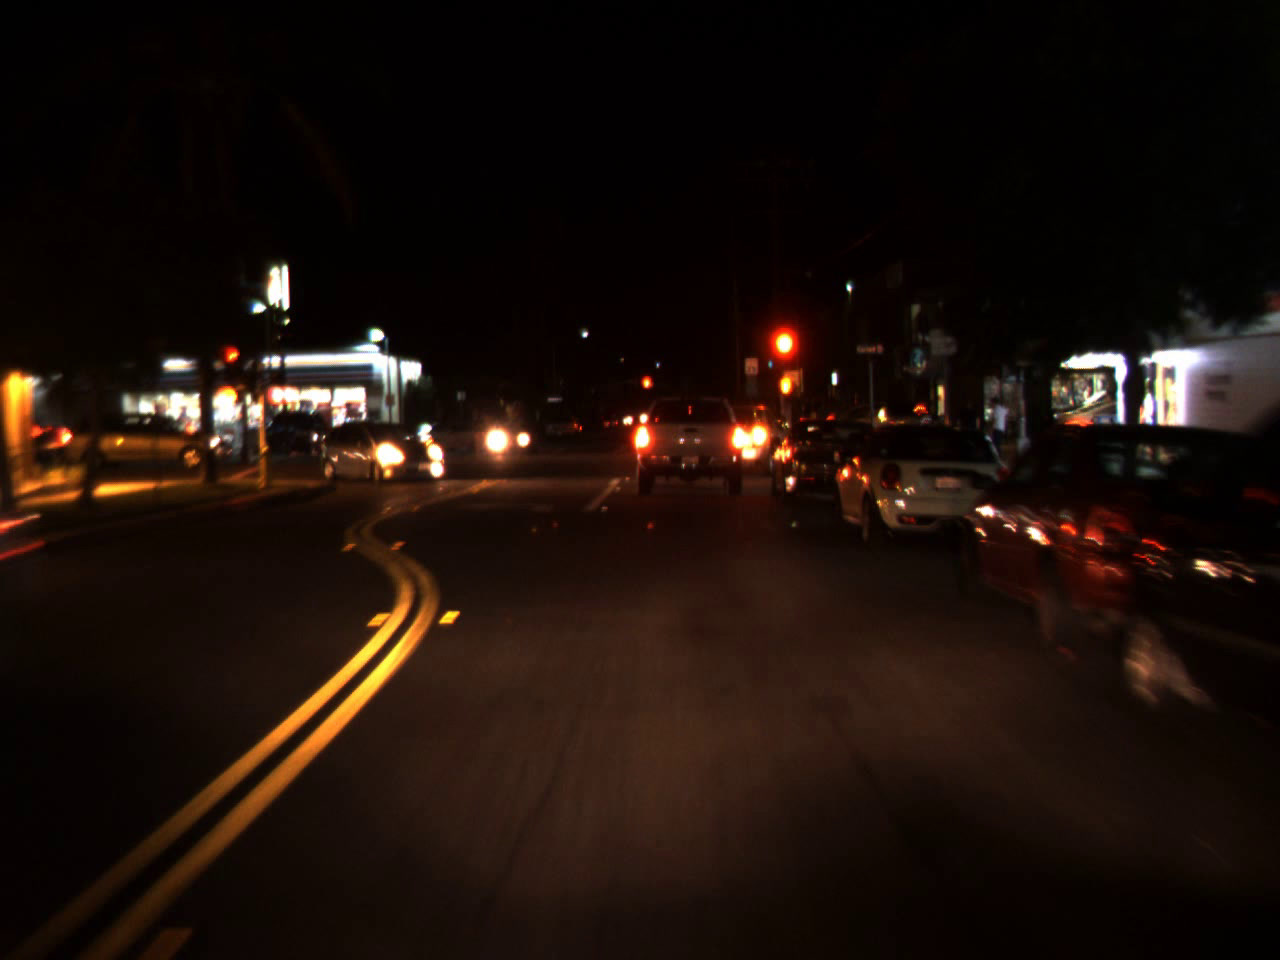stop: (769, 328, 797, 390), (223, 344, 241, 381), (639, 373, 654, 405)
